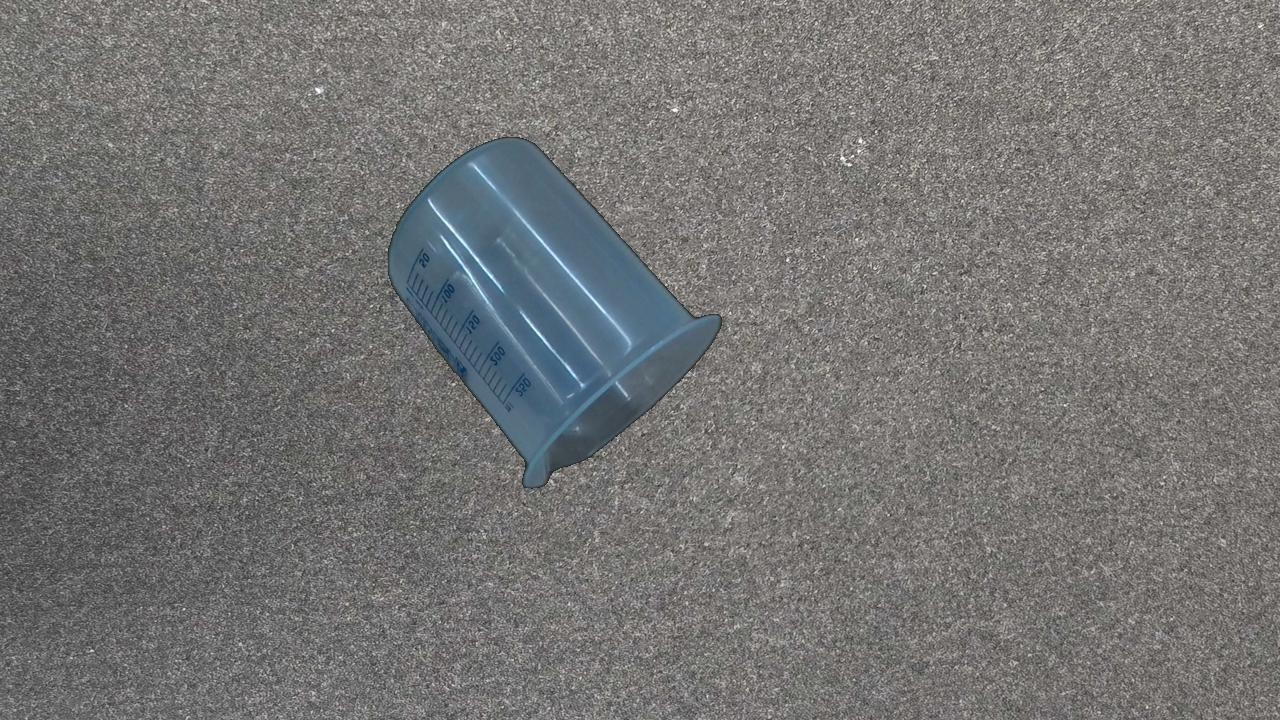cup: (385, 135, 723, 493)
